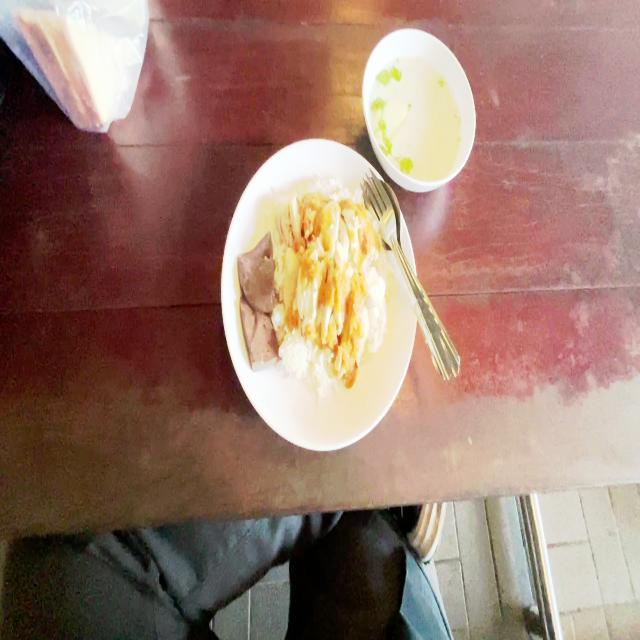boiled_chicken: (278, 190, 370, 356)
boiled_chicken_blood_jelly: (239, 233, 276, 367)
chicken_rice: (244, 176, 384, 410)
